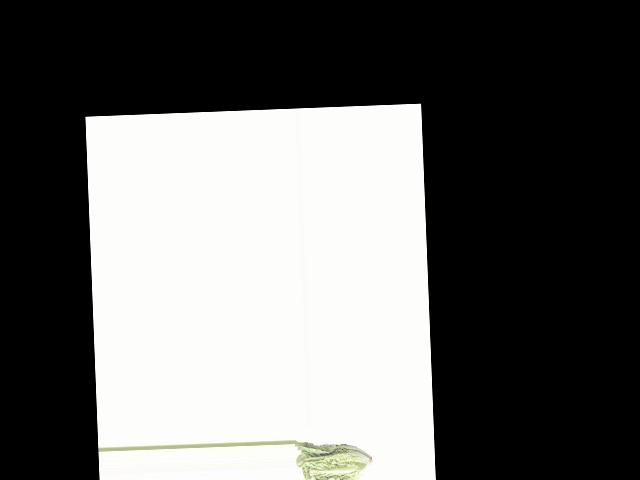lettuce: (295, 439, 371, 480)
